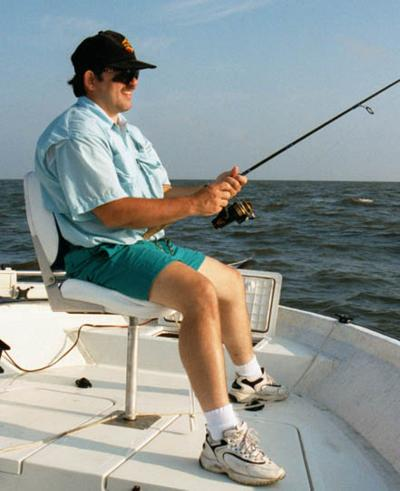person: (35, 32, 289, 486)
